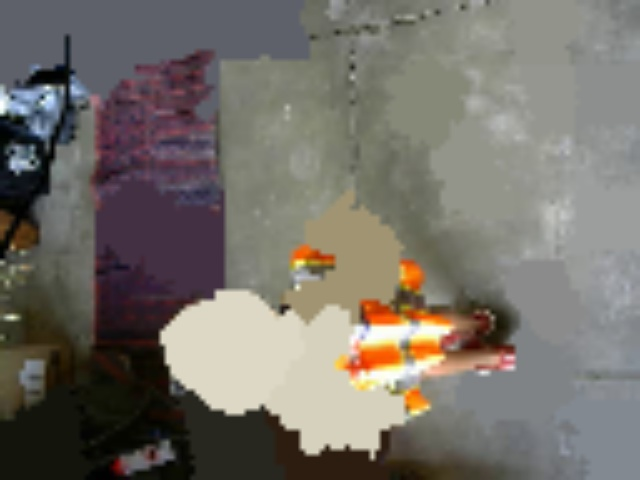three: (203, 335, 251, 378)
